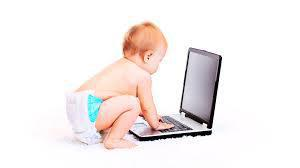child: (58, 20, 174, 152)
